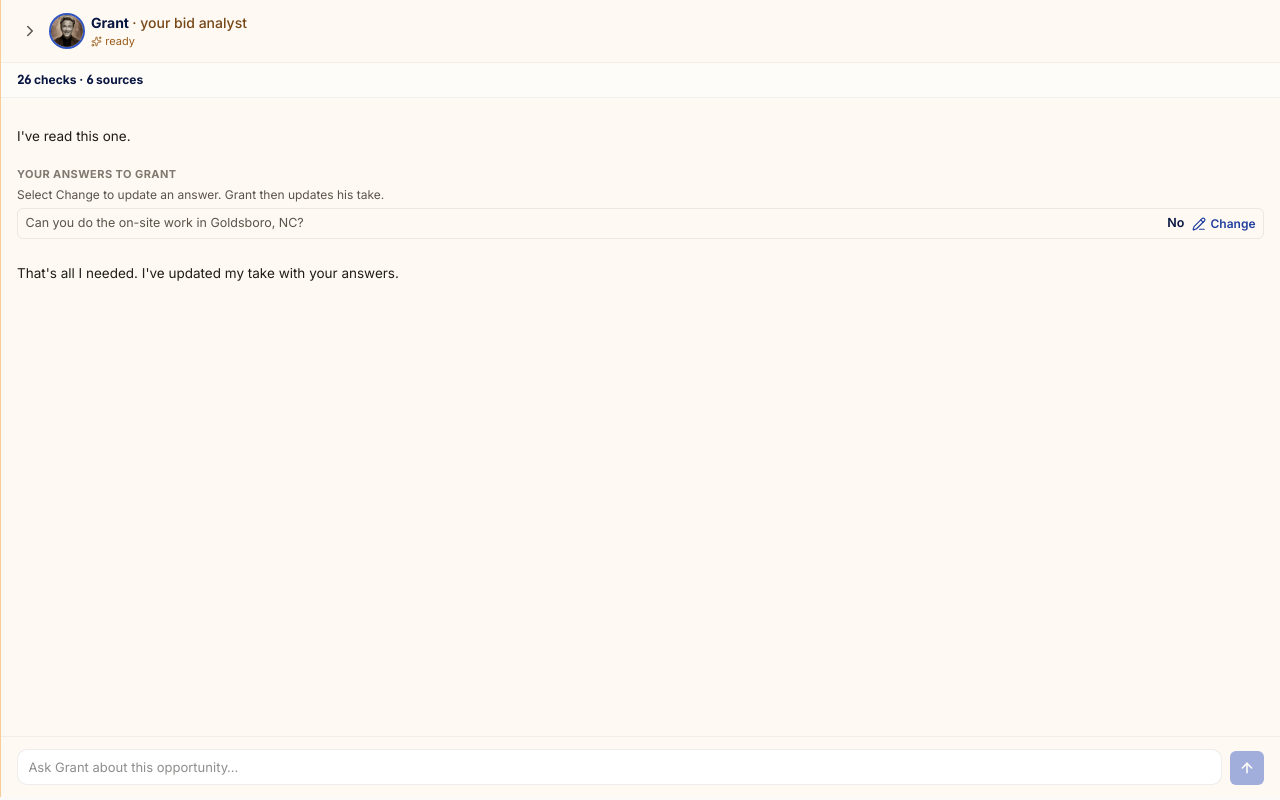
Test case: GrantRail — answered questions are revisable (edit answers) › a yes/no answer is edited with the Yes and No buttons, and sends the chosen value
Later steps or results of the test are not shown.
Step 1. Click the button "Can you do the on-site work in Goldsboro, NC? No Change" → (165, 223), box [17,208,1264,239]
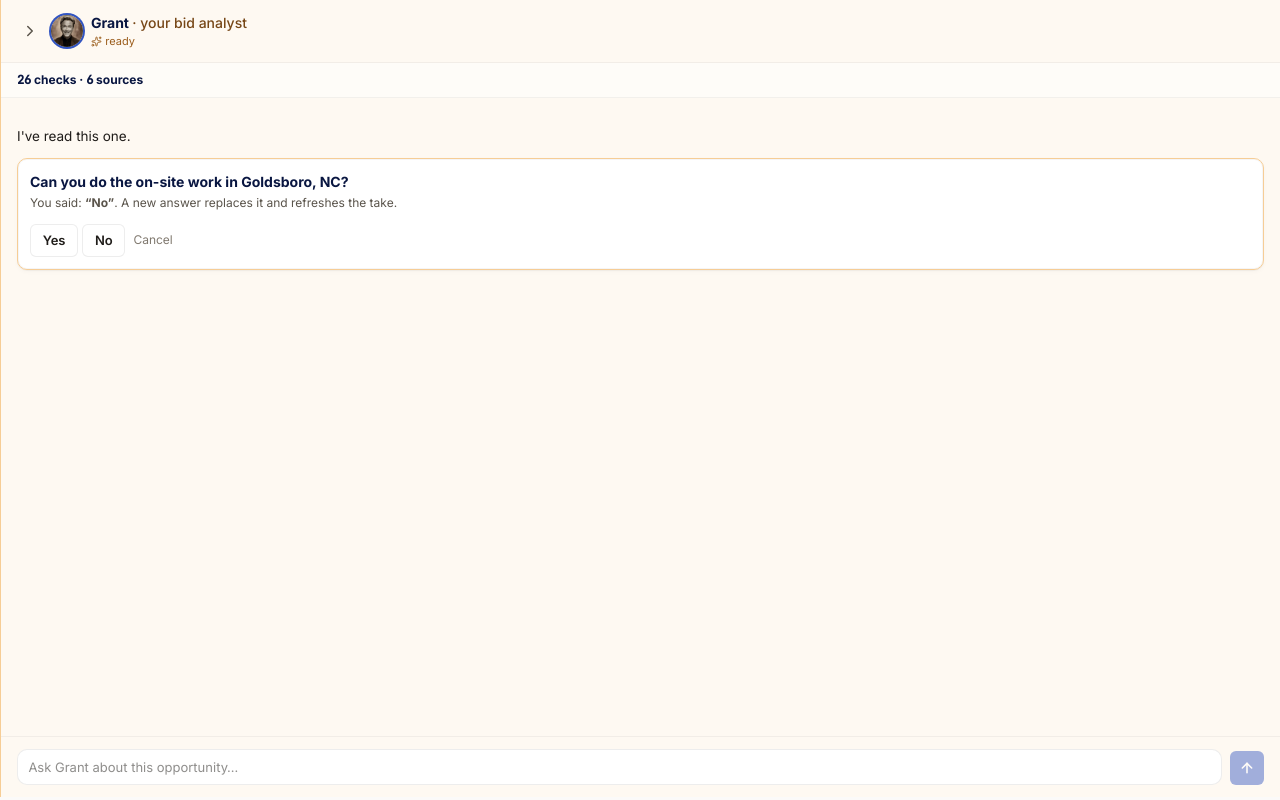
Expected: the button "No" is shown, [82,224,125,257]
